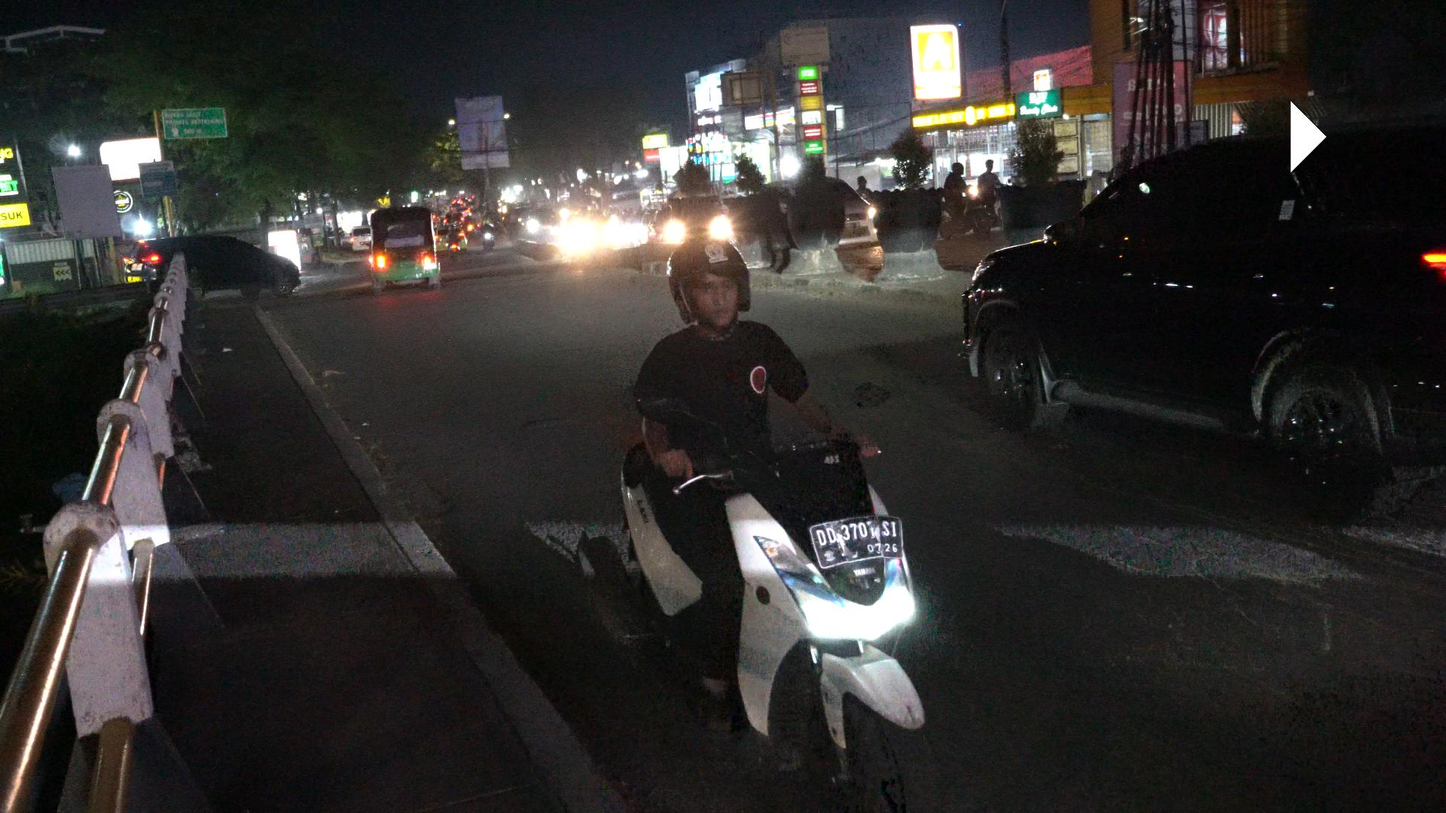number-plate: (806, 514, 907, 563)
